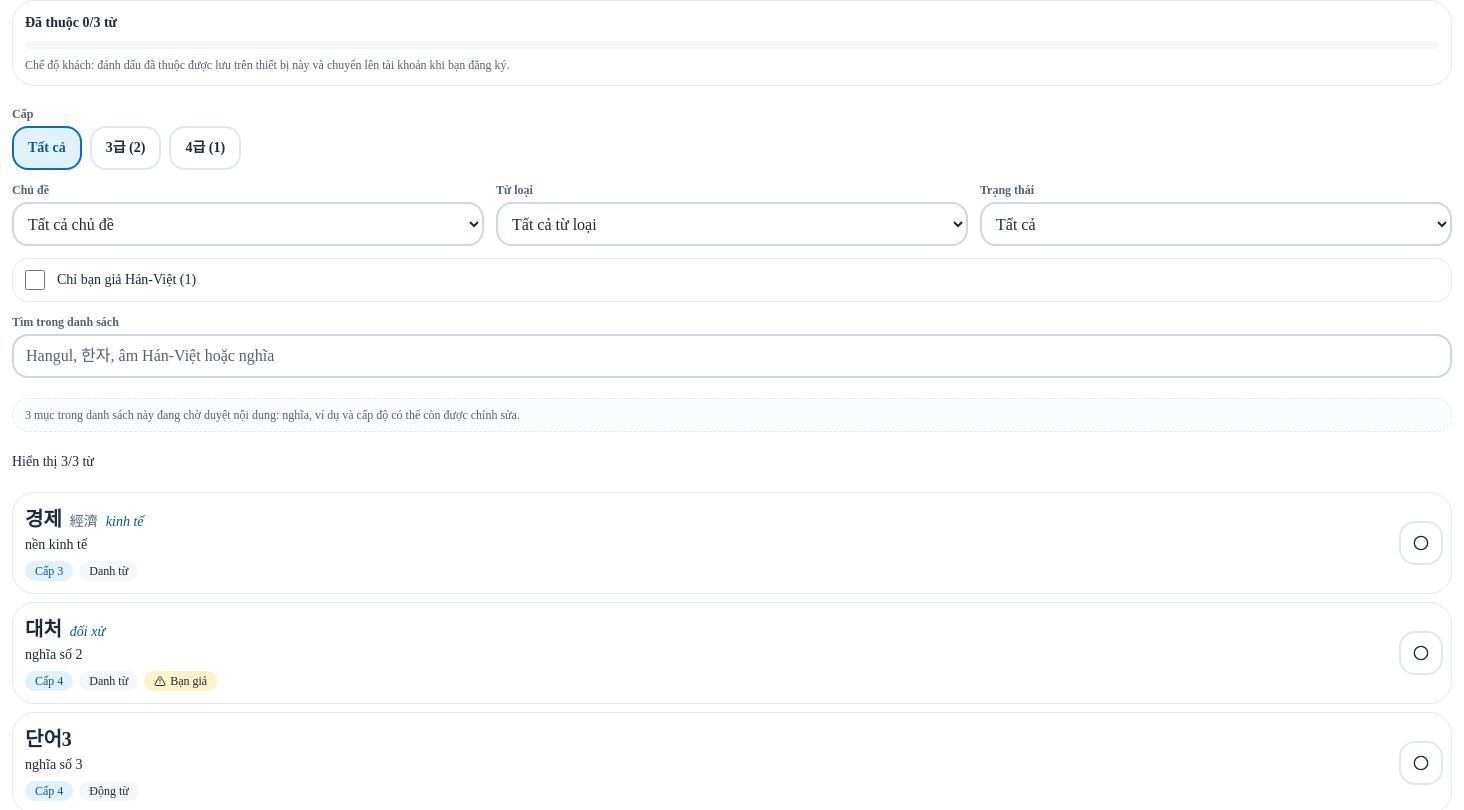
Test: VocabBrowser › lọc theo cấp, ghi lên URL, và xoá bộ lọc
Click the button "4급 (1)" at (205, 148), box x1=169 y1=126 x2=241 y2=170
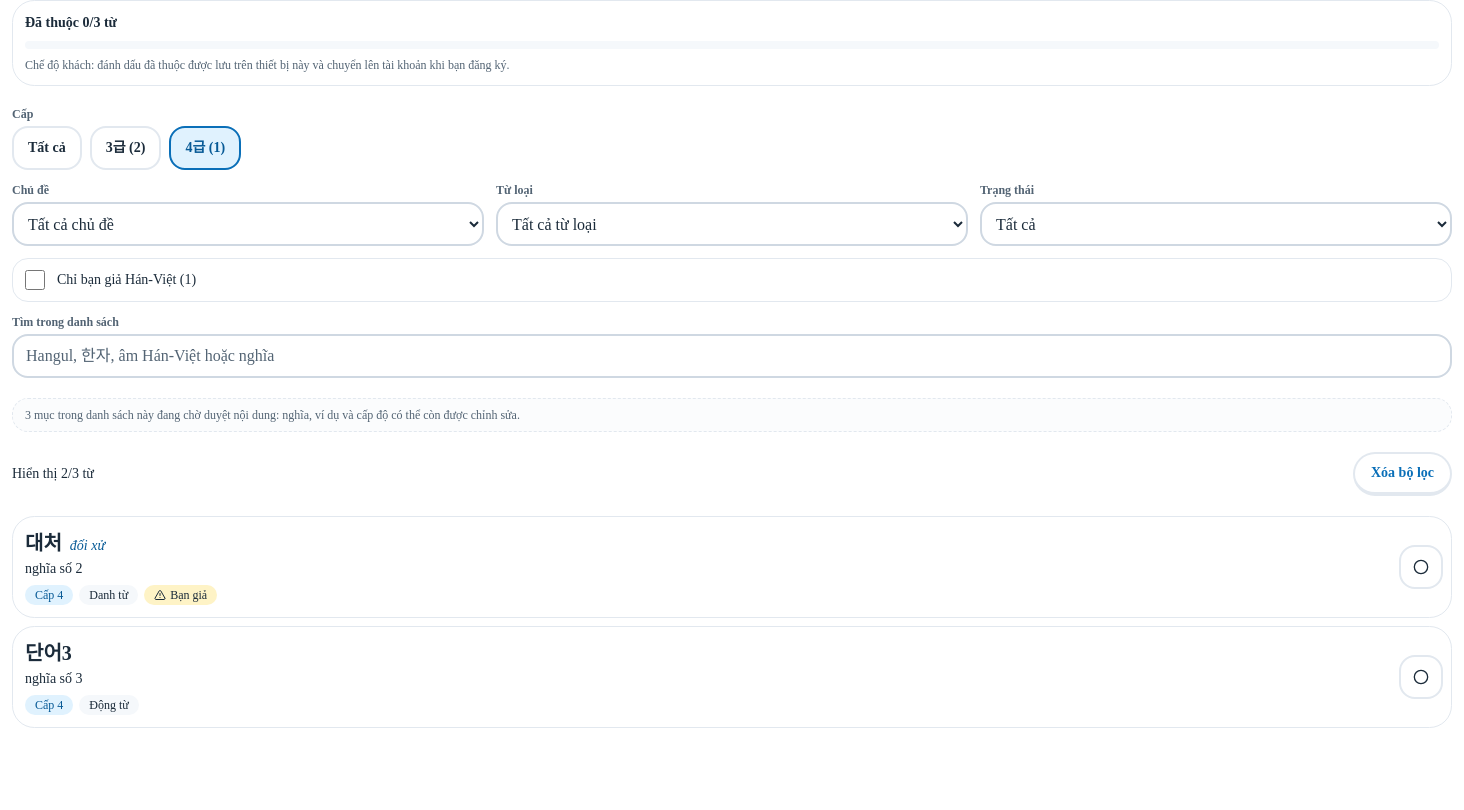
Check: the text "Hiển thị 2/3 từ" is shown, box x1=12 y1=464 x2=94 y2=484
Click the button "Xóa bộ lọc" at (1402, 474), box x1=1353 y1=452 x2=1452 y2=496
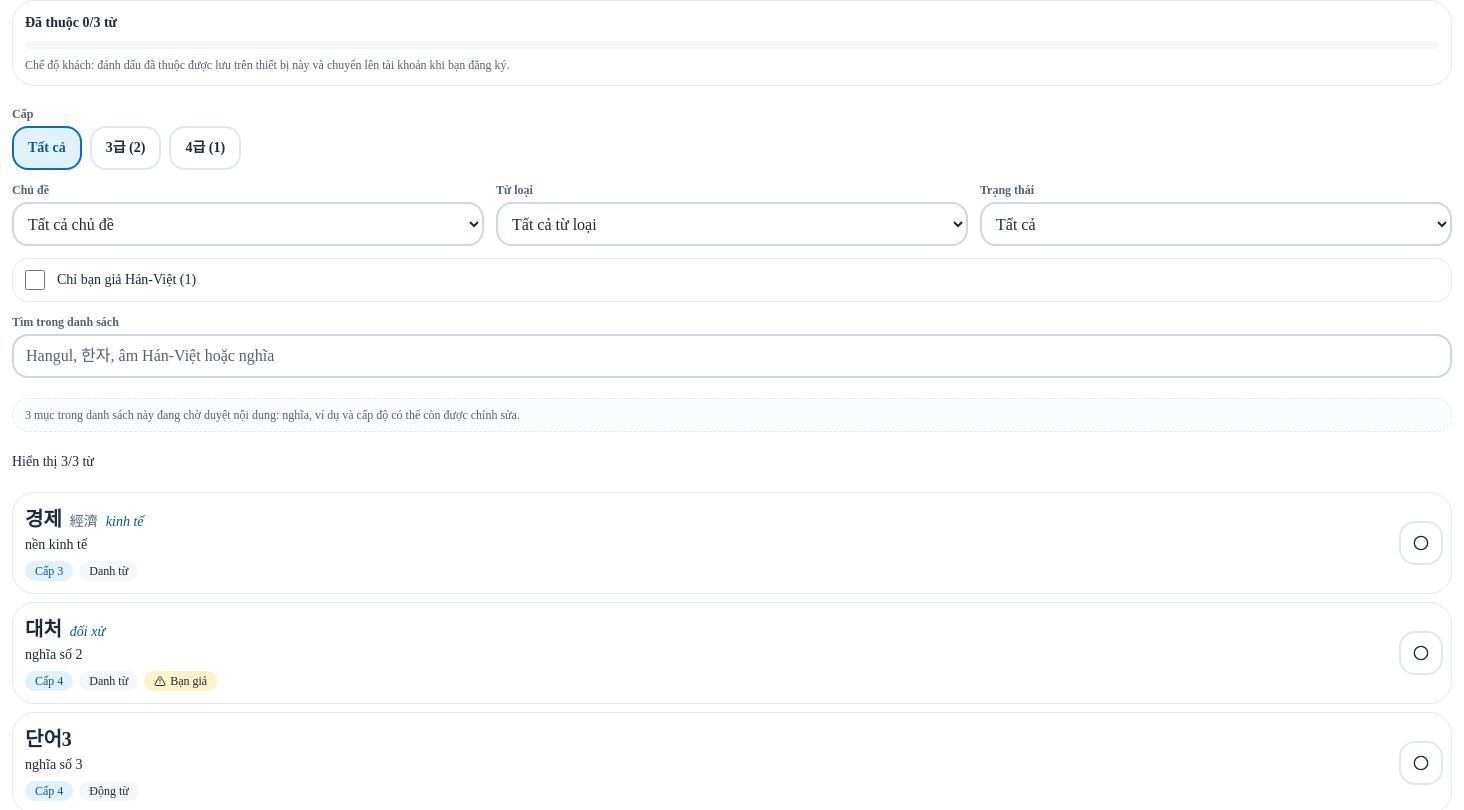
Check: the text "Hiển thị 3/3 từ" is shown, box x1=12 y1=452 x2=94 y2=472
